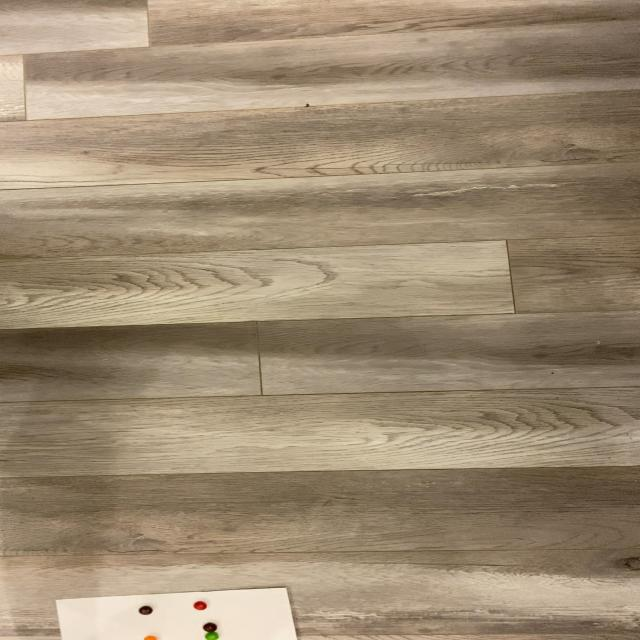smartie: (201, 624, 216, 634), (192, 602, 206, 612), (137, 607, 152, 616), (203, 633, 218, 640), (142, 637, 156, 640)
